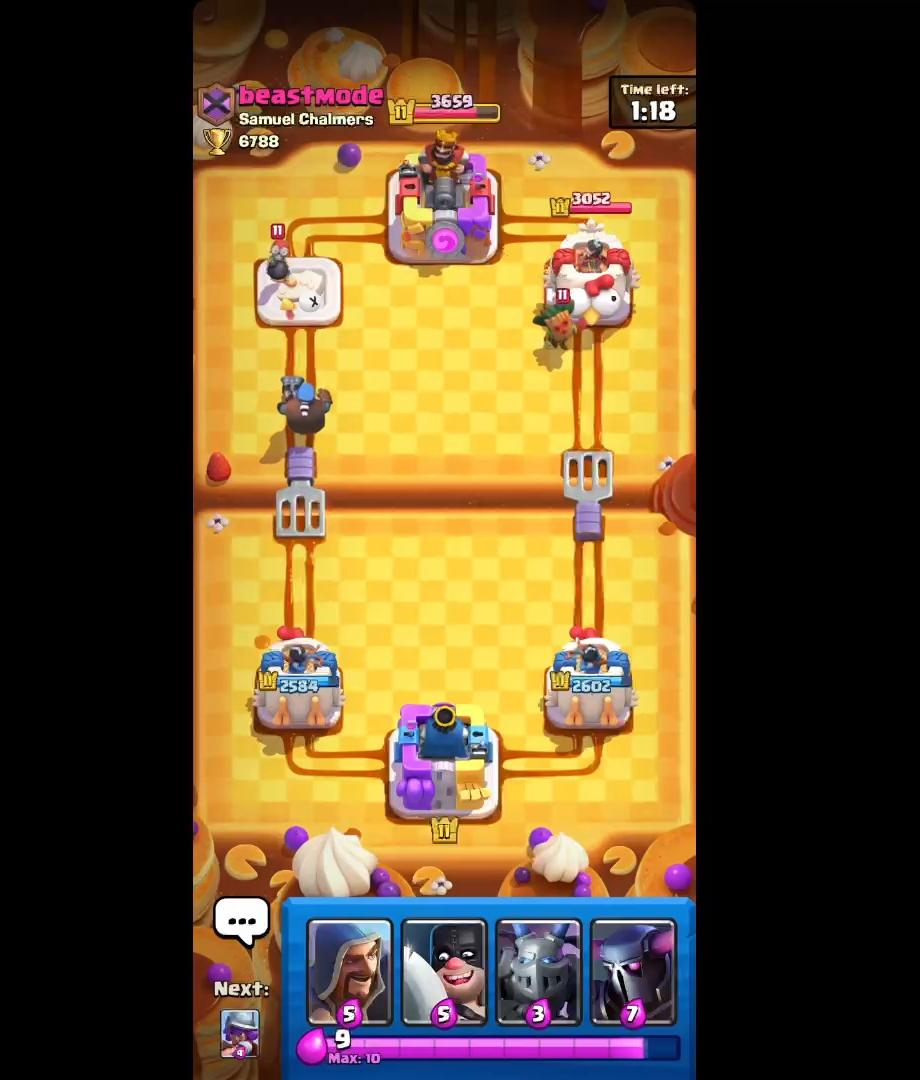Bomber: (261, 224, 301, 291)
Dart Goblin: (527, 283, 589, 351)
